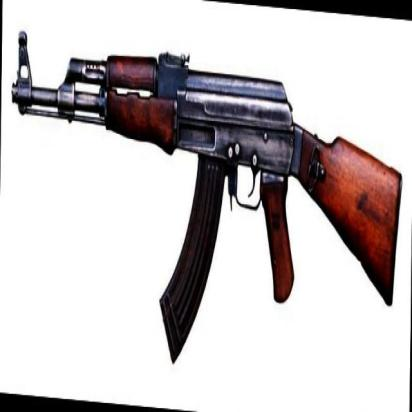Gun: (12, 19, 405, 374)
